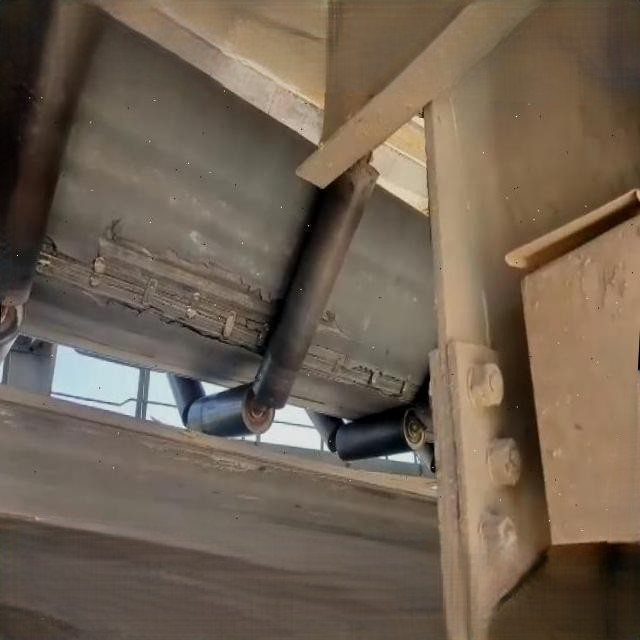Tear: (34, 214, 272, 358), (298, 306, 420, 408)
